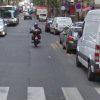Motorcycle: (24, 22, 49, 57)
